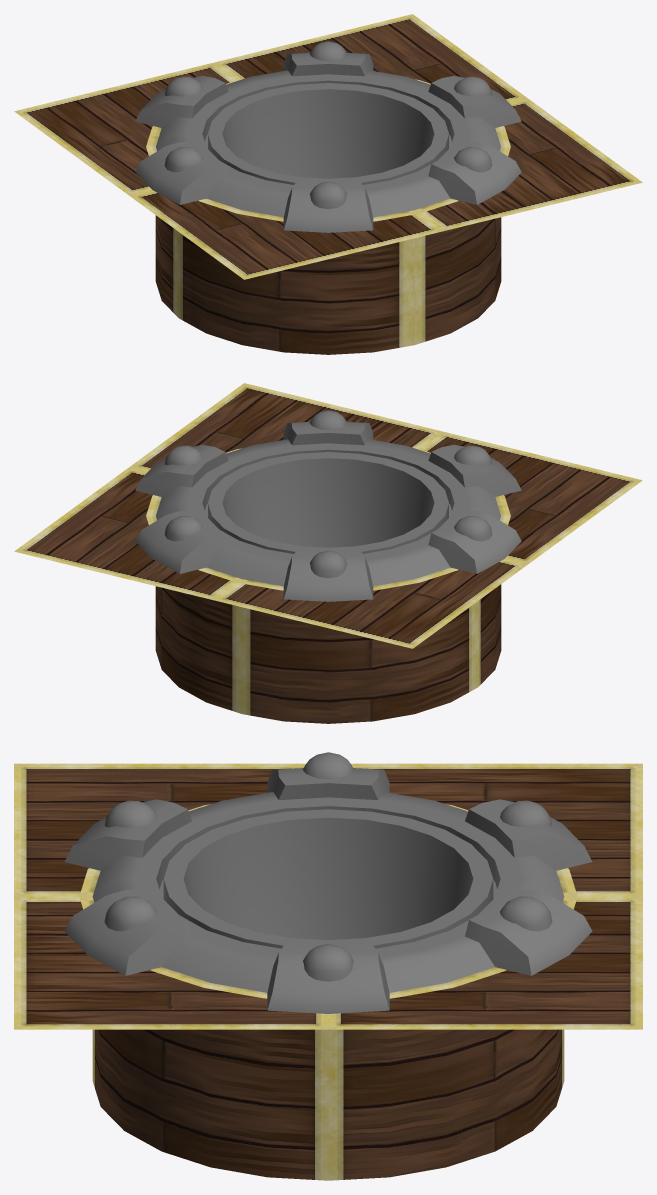
Rendered from Env_Prop_FlorpReceptor.fbx.
3 renders of one model, top to bottom at view 1: azimuth 30°, elevation 25°; view 2: azimuth 150°, elevation 25°; view 3: azimuth 270°, elevation 25°, orthographic. The views are drawn at different scales.
Parts seen in each view (by area): view 1: Florp_Receptor_border, Florp_Receptor1; view 2: Florp_Receptor_border, Florp_Receptor1; view 3: Florp_Receptor_border, Florp_Receptor1.
Boxes of the visible parts, left/top/right/bottom form: Florp_Receptor_border: left=14, top=14, right=642, bottom=354; Florp_Receptor1: left=135, top=41, right=521, bottom=232; Florp_Receptor_border: left=14, top=383, right=642, bottom=723; Florp_Receptor1: left=135, top=410, right=521, bottom=601; Florp_Receptor_border: left=14, top=763, right=642, bottom=1180; Florp_Receptor1: left=64, top=752, right=592, bottom=1013.
Bounding box in the file's own units: 200 × 80.83 × 200.
